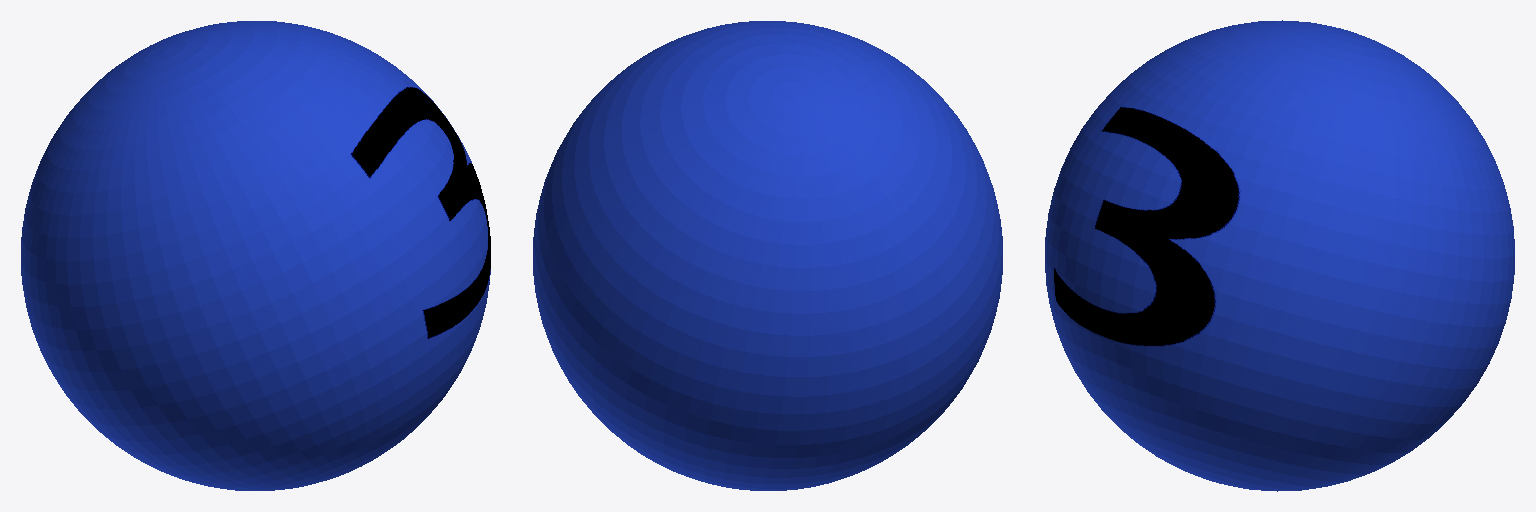
The picture shows the model from 3 angles: view 1: azimuth 30°, elevation 25°; view 2: azimuth 150°, elevation 25°; view 3: azimuth 270°, elevation 25°; orthographic projection.
Parts seen in each view (by area): view 1: Sphere; view 2: Sphere; view 3: Sphere.
Boxes of the visible parts, <box> form: Sphere: <box>21,21,490,490</box>; Sphere: <box>533,21,1002,490</box>; Sphere: <box>1045,20,1514,491</box>.
Size of the model in its own units: 2 by 2 by 2.
Materials: 1 (1 with a texture image).